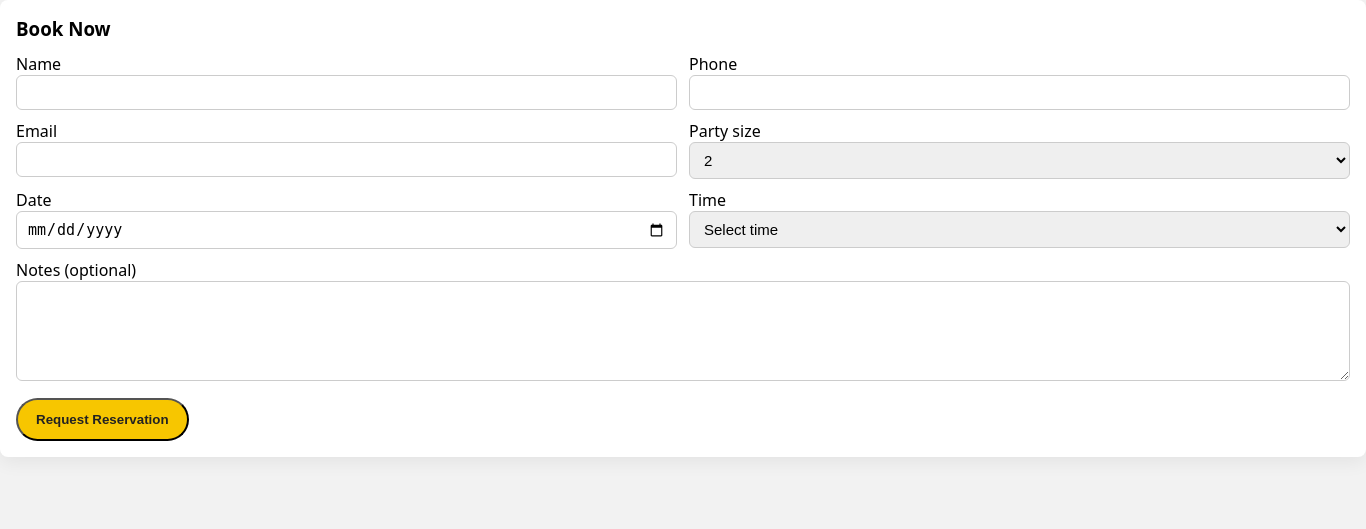
Test: shows error message when submitAPI returns false
The image size is (1366, 529).
Type "Charlie" into the field labelled "Name" at {"x": 346, "y": 92}, box [16, 75, 677, 110]
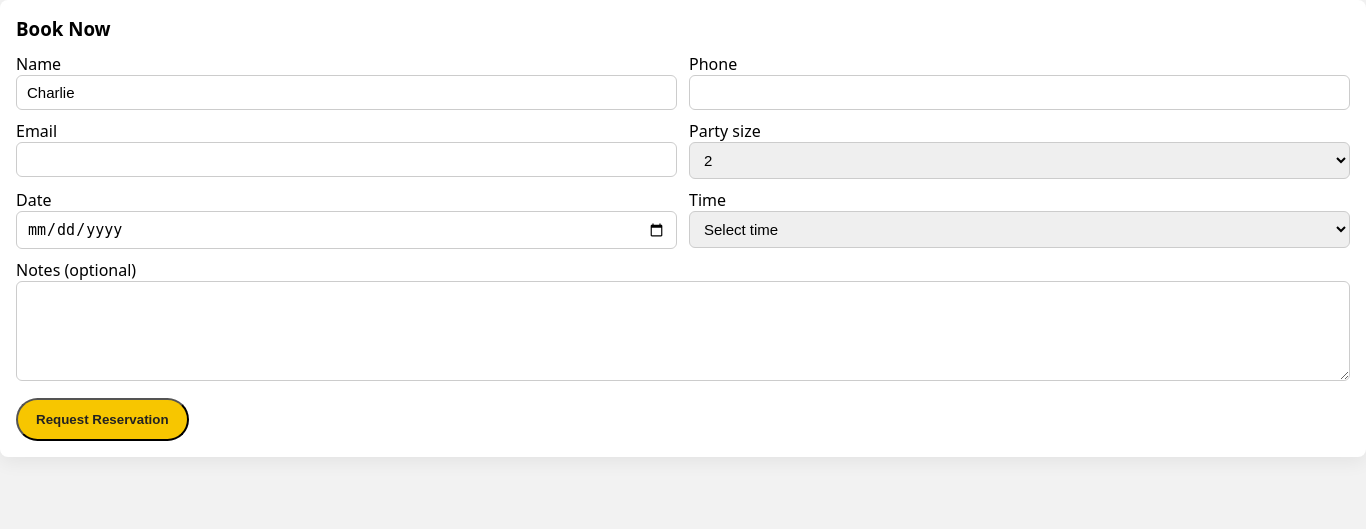
Type "c@c.com" into the field labelled "Email" at {"x": 346, "y": 160}, box [16, 142, 677, 177]
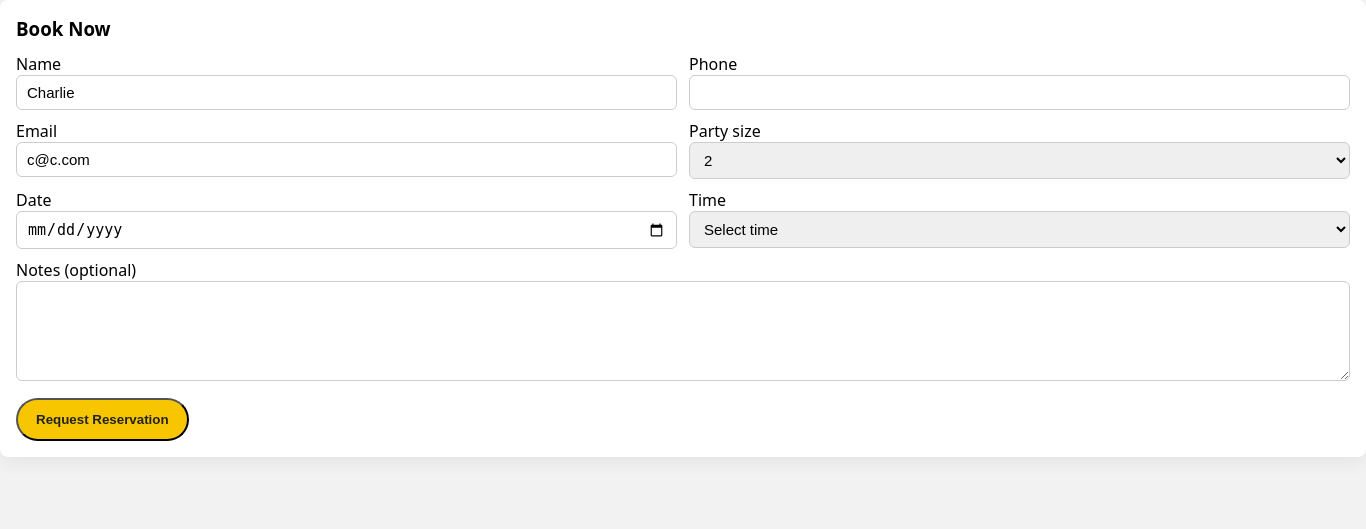
Type "2025-12-25" into the date field labelled "Date" at {"x": 346, "y": 230}, box [16, 211, 677, 249]
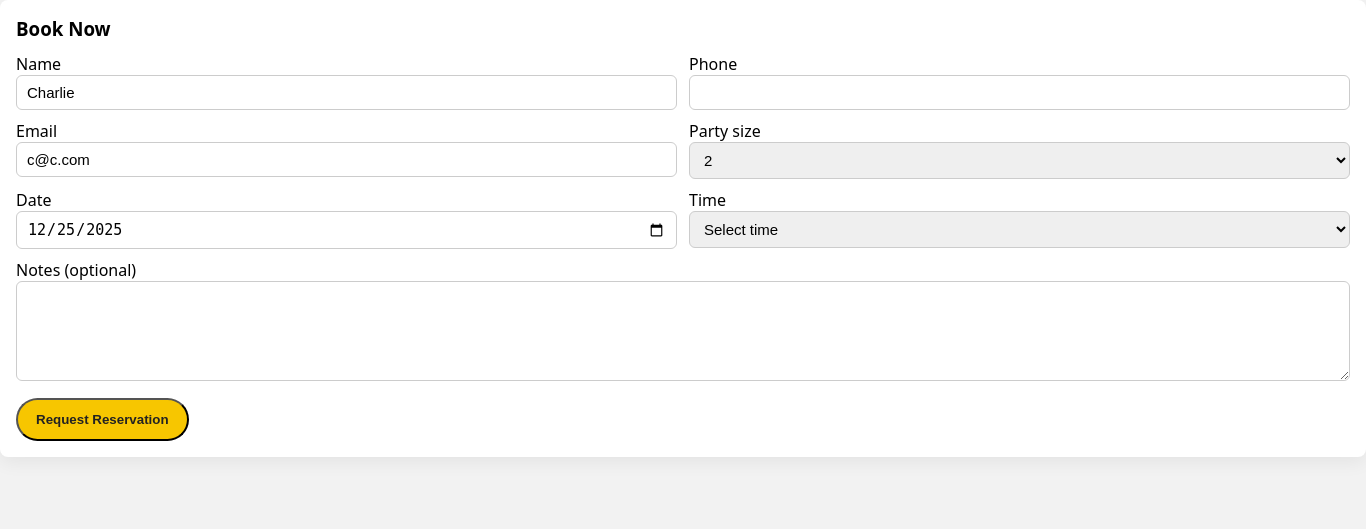
Select "18:00" in the dropdown labelled "Time" at {"x": 1020, "y": 230}, box [689, 211, 1350, 248]
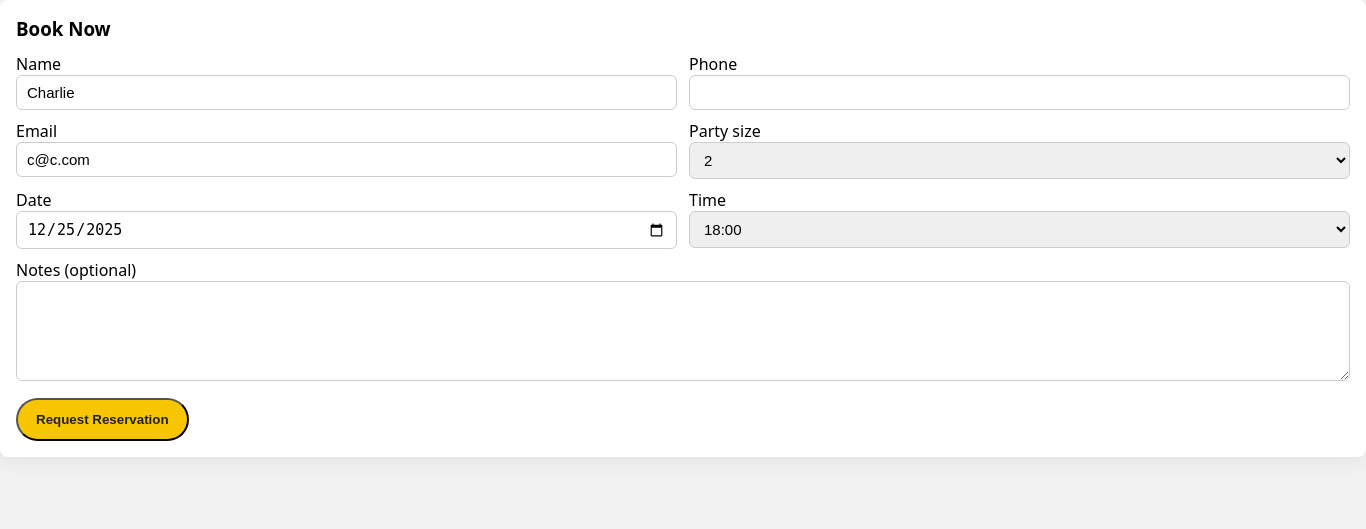
Click the button "Request Reservation" at {"x": 102, "y": 420}, box [16, 398, 189, 441]
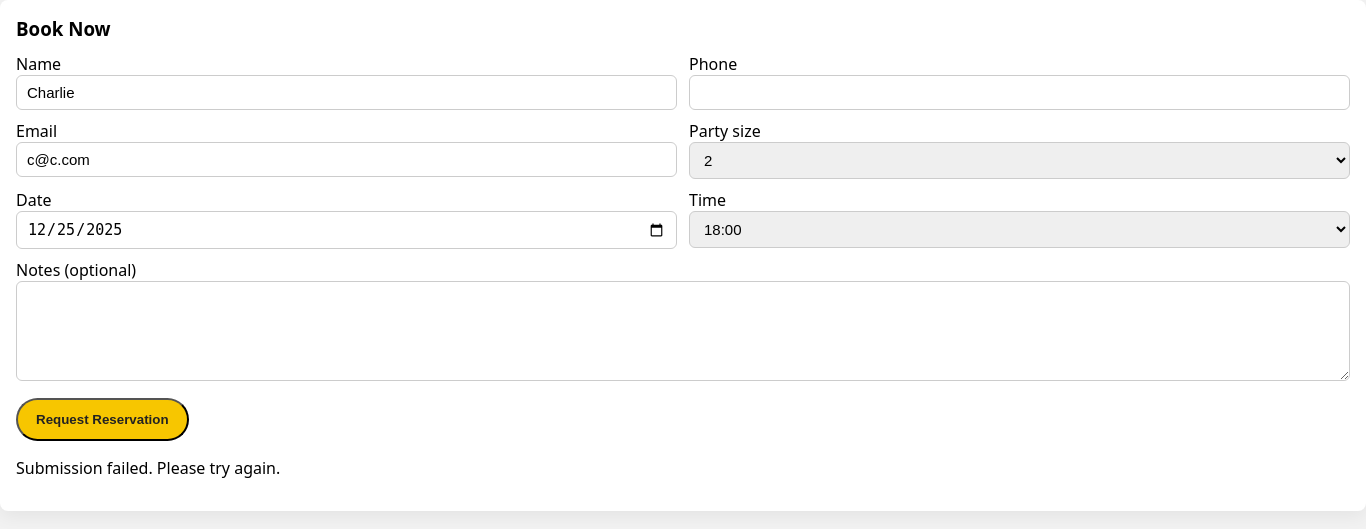
Now the text "Submission failed. Please try again." is shown, box [16, 457, 280, 479]
